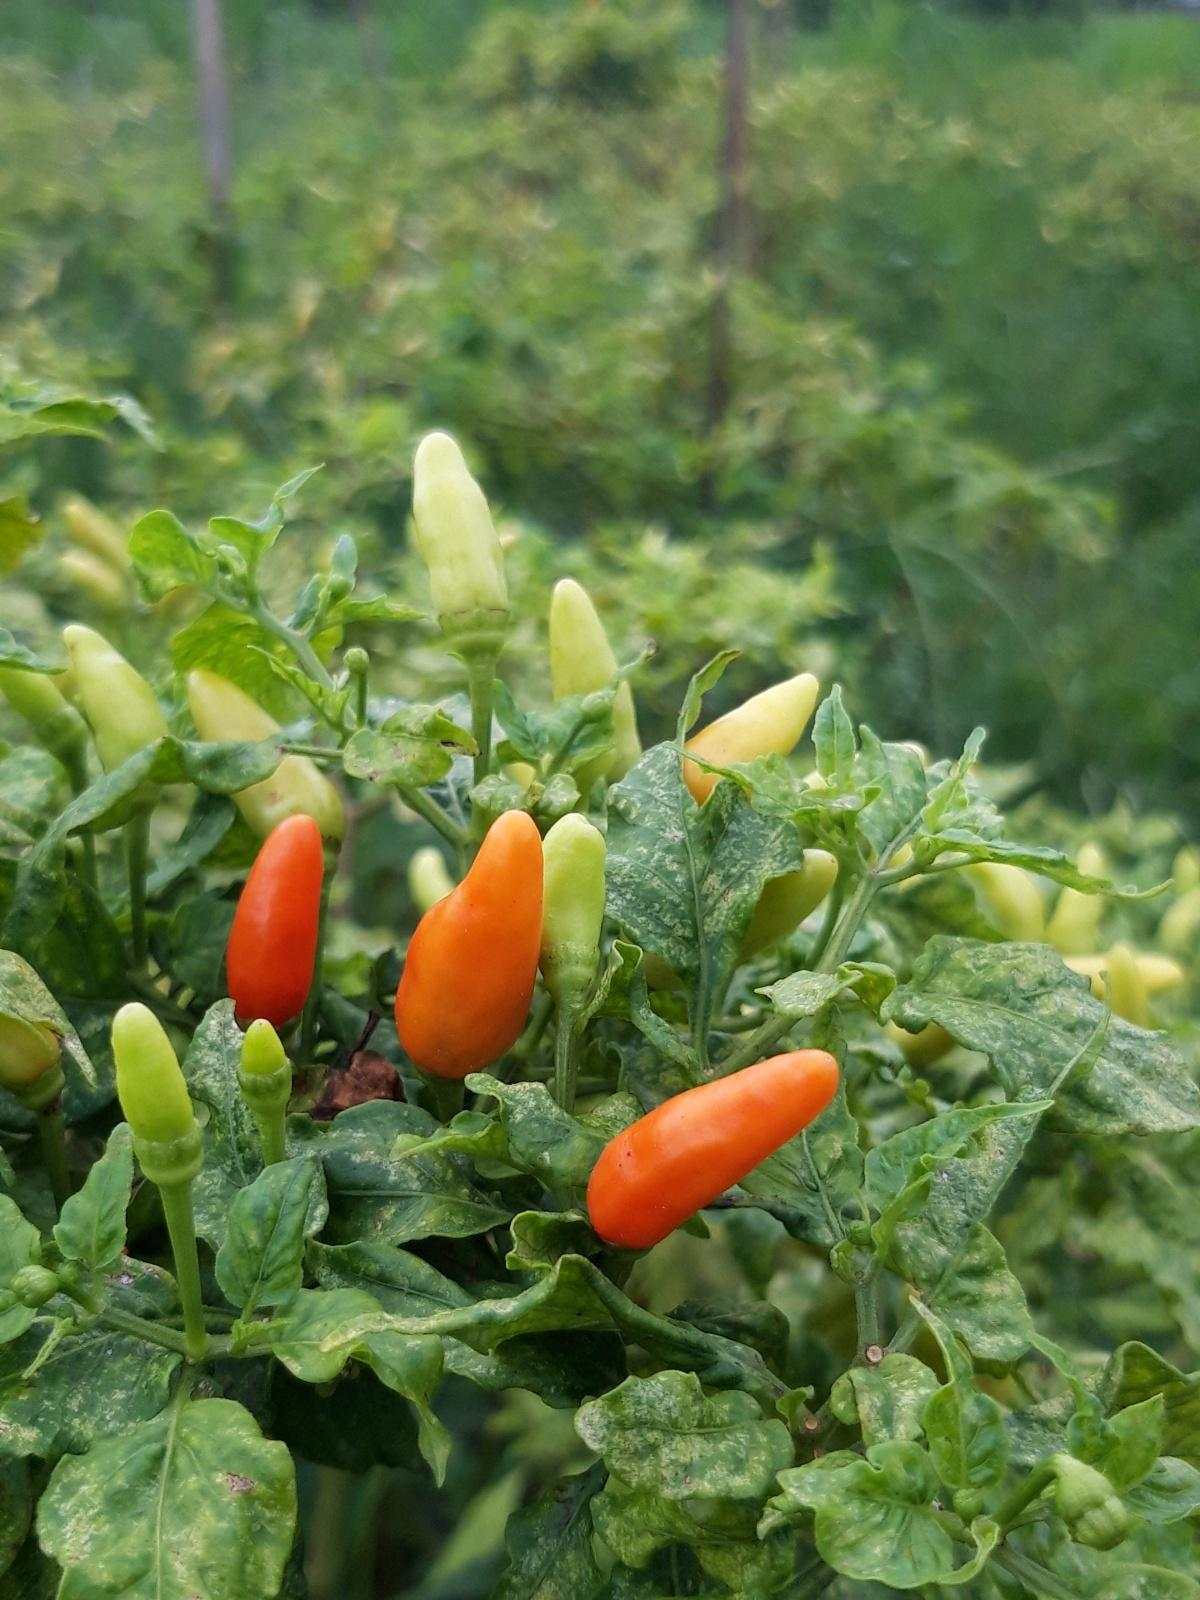cabai_normal: (589, 1047, 839, 1246), (396, 810, 545, 1072), (187, 664, 345, 831), (229, 814, 325, 1026), (548, 577, 645, 774), (677, 669, 819, 795), (412, 427, 507, 614), (64, 622, 166, 775), (111, 1002, 194, 1143), (537, 814, 605, 973), (949, 834, 1044, 941), (744, 848, 837, 951), (1045, 838, 1103, 952), (238, 1017, 287, 1075)
